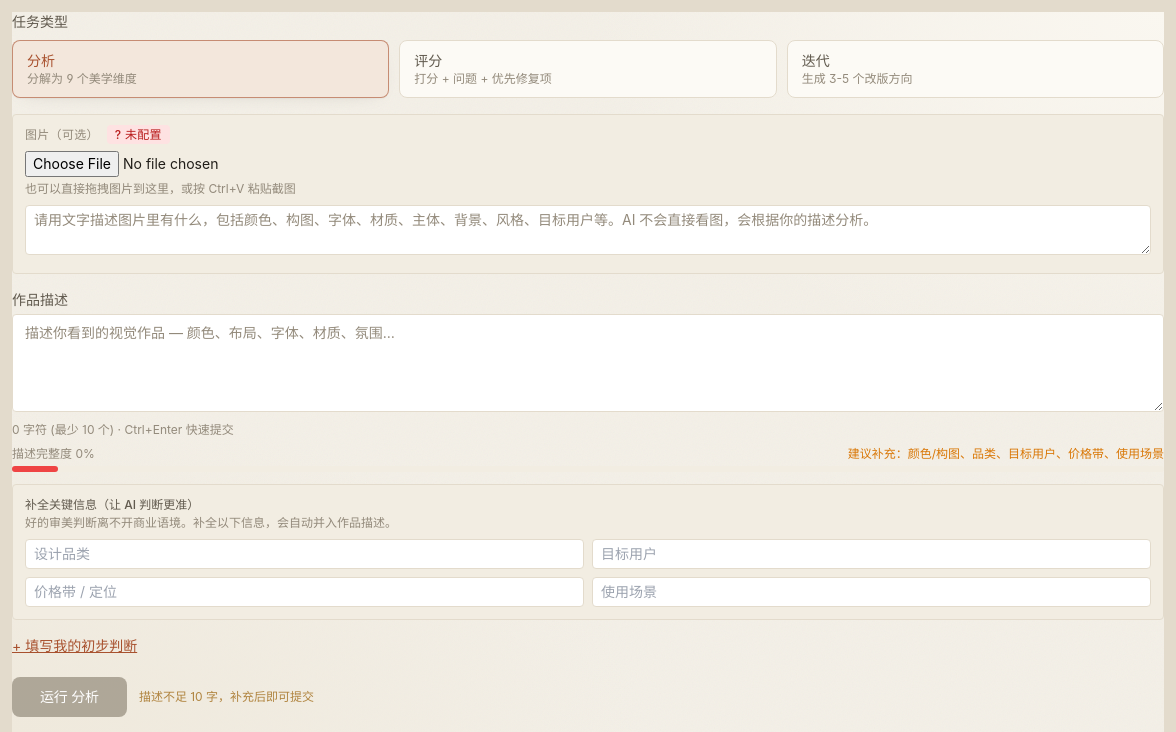
it: TaskForm › disables Run with a hint until the description is long enough
Check: the button "运行 分析" is disabled, box x1=12 y1=677 x2=127 y2=717
Check: the text "描述不足 10 字，补充后即可提交" is shown, box x1=139 y1=689 x2=314 y2=705
Type "这是一段足够长的作品描述内容" into the text box labelled "作品描述" at (588, 363), box x1=12 y1=314 x2=1164 y2=412
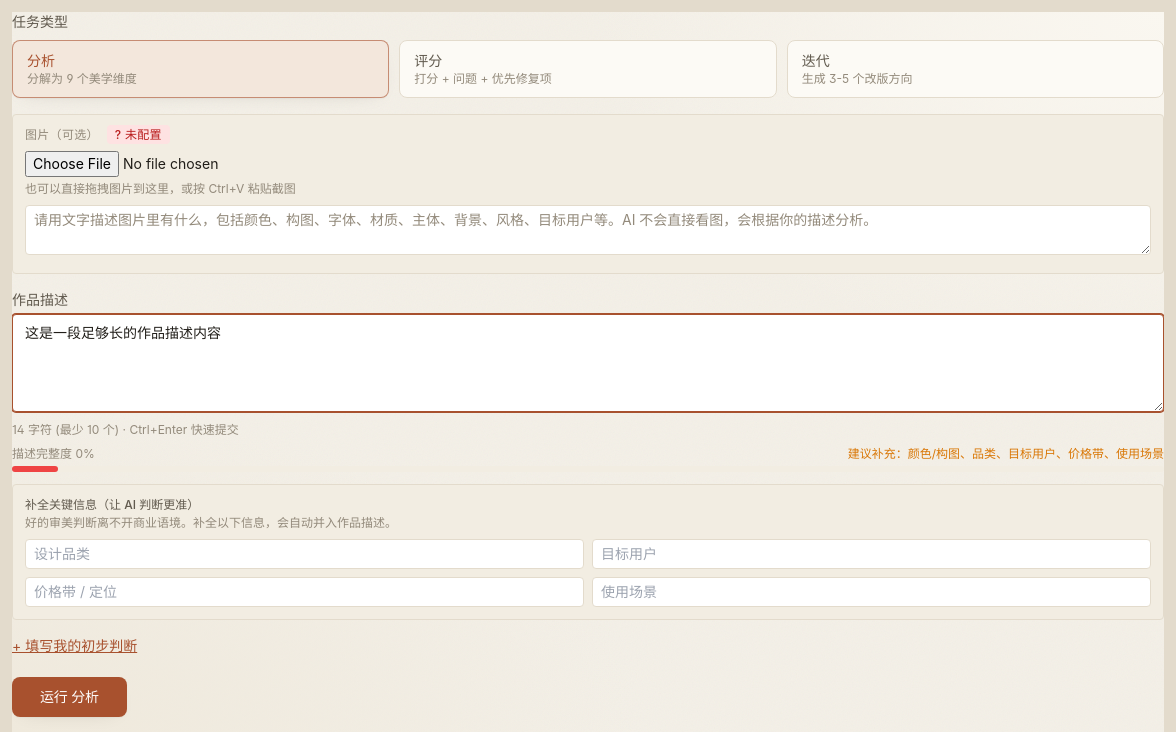
Check: the button "运行 分析" is enabled, box x1=12 y1=677 x2=127 y2=717
